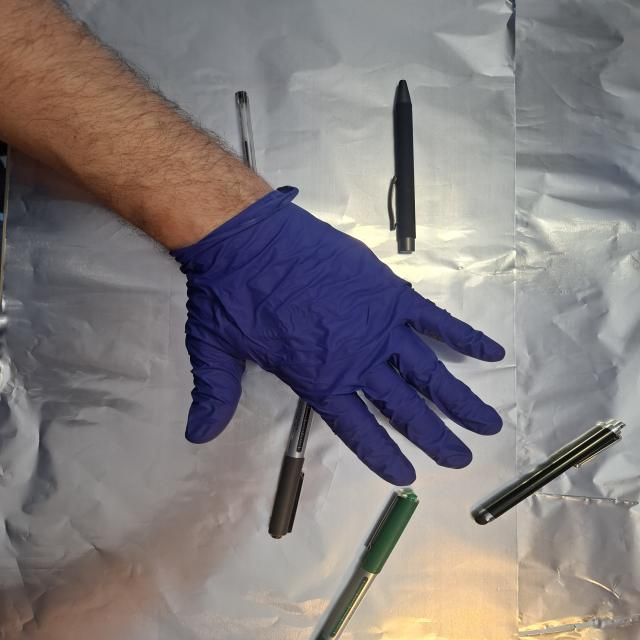glove_on: (172, 189, 508, 489)
